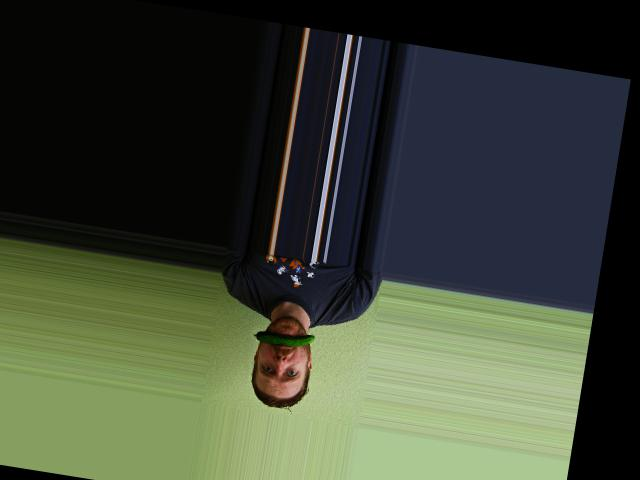cucumber: (252, 325, 316, 350)
